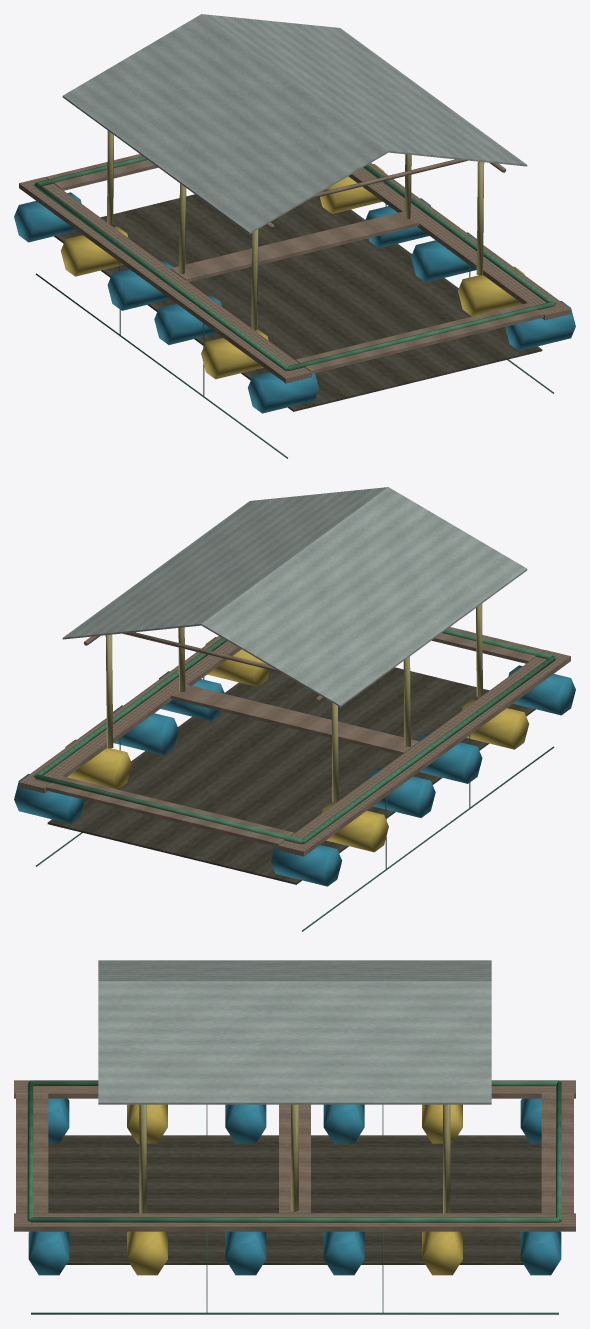
Rendered from bung-raft-2-grey-mid.glb.
3 views of the same model, one above another, from view 1: azimuth 30°, elevation 25°; view 2: azimuth 150°, elevation 25°; view 3: azimuth 270°, elevation 25° (orthographic). The views are drawn at different scales.
Parts seen in each view (by area): view 1: bung-raft-2-grey-mid; view 2: bung-raft-2-grey-mid; view 3: bung-raft-2-grey-mid.
Boxes of the visible parts, x1,y1,x2,y2 form: bung-raft-2-grey-mid: (14, 14, 575, 458); bung-raft-2-grey-mid: (14, 487, 575, 931); bung-raft-2-grey-mid: (14, 960, 575, 1314).
Size of the model in its own units: 5.34 by 4.17 by 8.
Materials: 1 (1 with a texture image).
